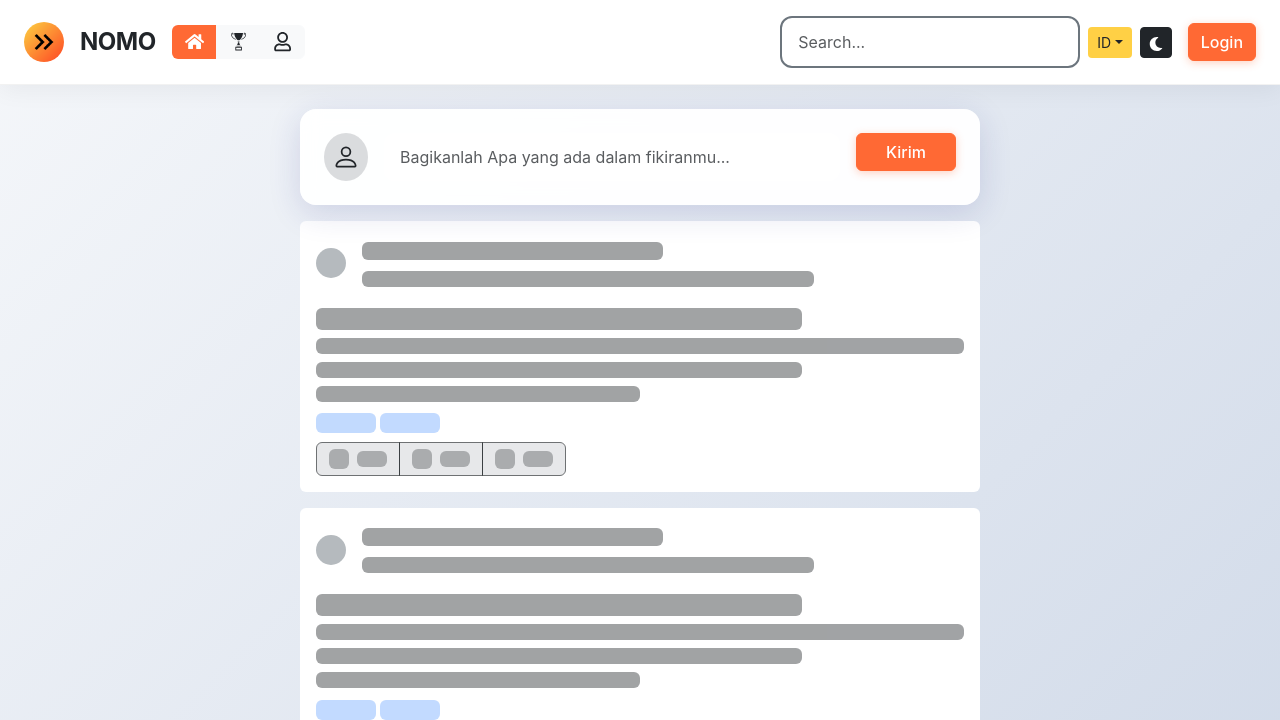
Scenario: Login spec › should display login page correctly
Step 1. Click the button with id "loginButton" → (1222, 42), box [1188,23,1256,61]
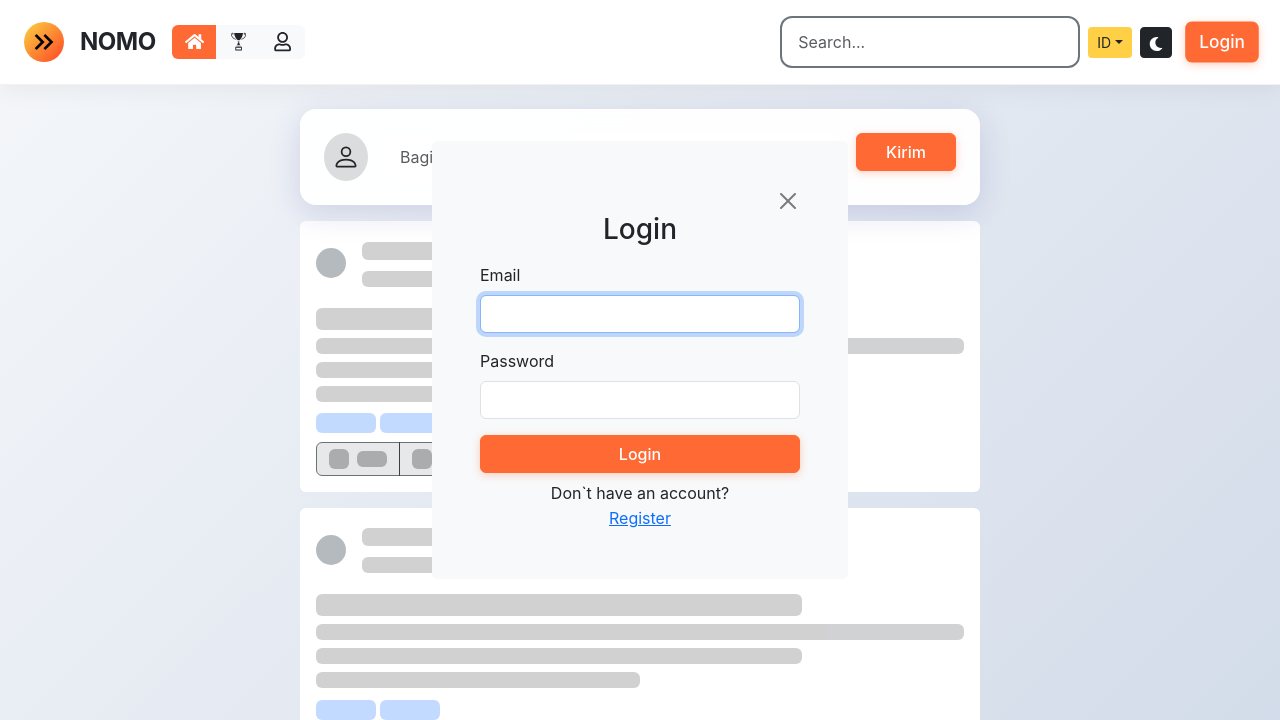
Now the field with id "email" is shown, box [480,295,800,333]
Now the password field labelled "Password" is shown, box [480,381,800,419]
Now the button "Login" is shown, box [480,435,800,473]
